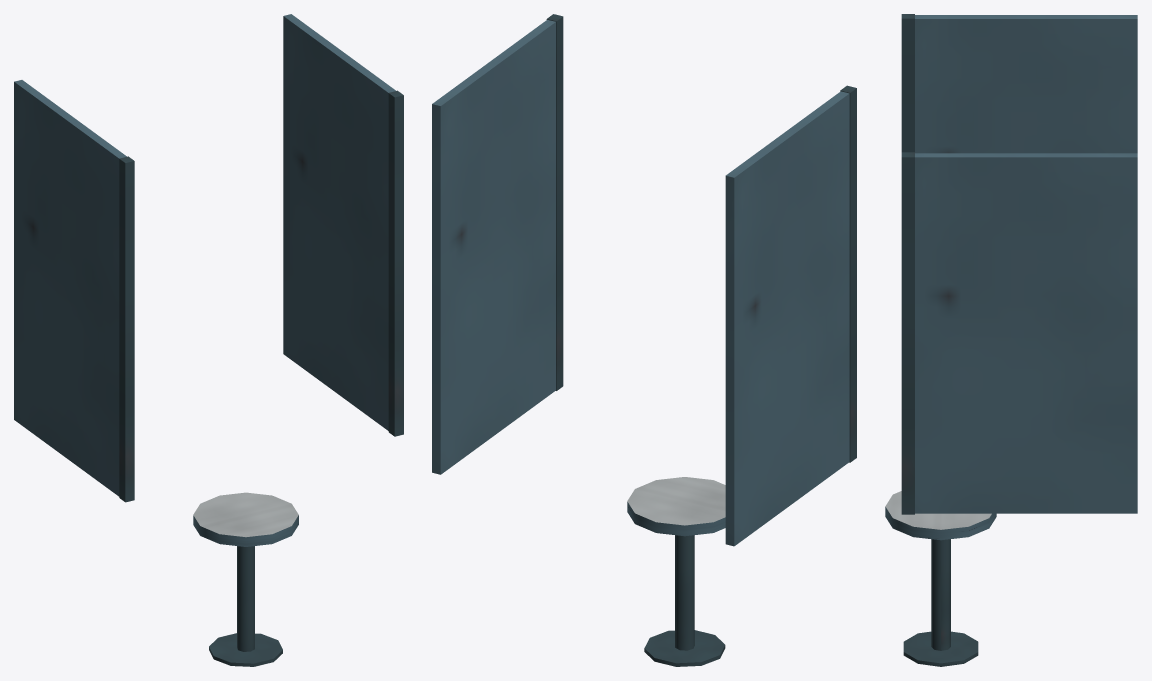
File: visit_booth.fbx
3 renders of one model, left to right at view 1: azimuth 30°, elevation 25°; view 2: azimuth 150°, elevation 25°; view 3: azimuth 270°, elevation 25°, orthographic. The views are drawn at different scales.
Parts seen in each view (by area): view 1: visit_booth; view 2: visit_booth; view 3: visit_booth.
Part boxes in pixels (x1=…): visit_booth: x1=14, y1=14, x2=403, y2=666; visit_booth: x1=432, y1=14, x2=856, y2=666; visit_booth: x1=885, y1=14, x2=1137, y2=666.
Bounding box in the file's own units: 1.03 × 1.9 × 0.77.
1 material, 1 textured.
